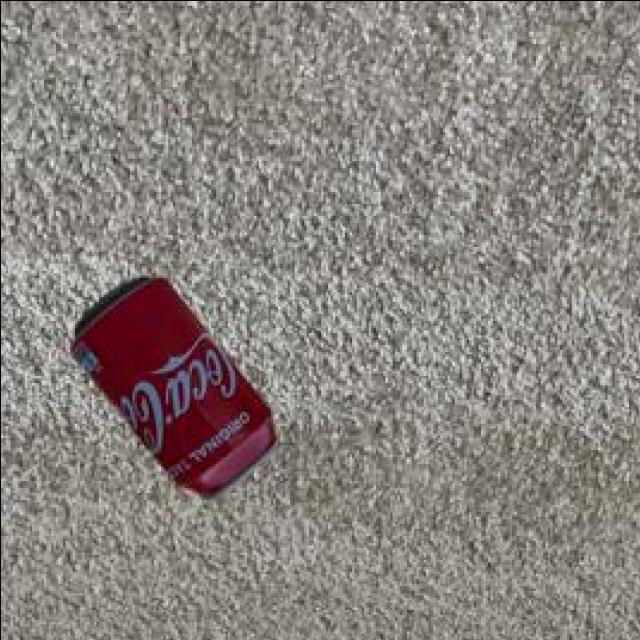logam: (75, 281, 278, 500)
